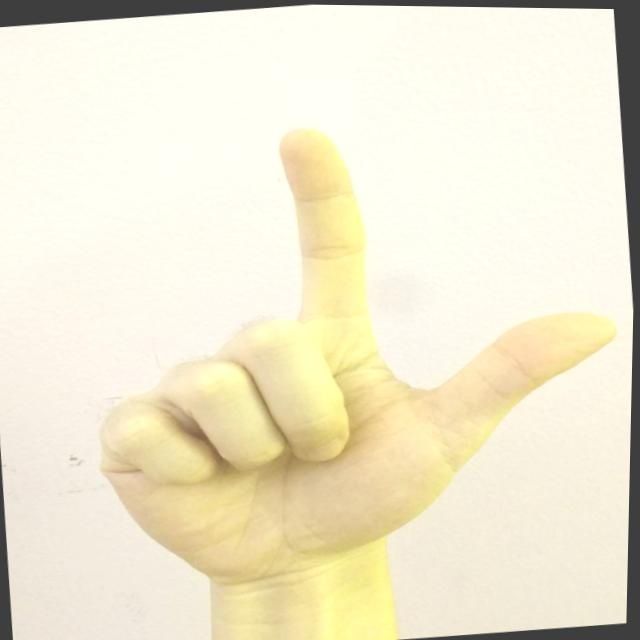L: (62, 90, 637, 601)
